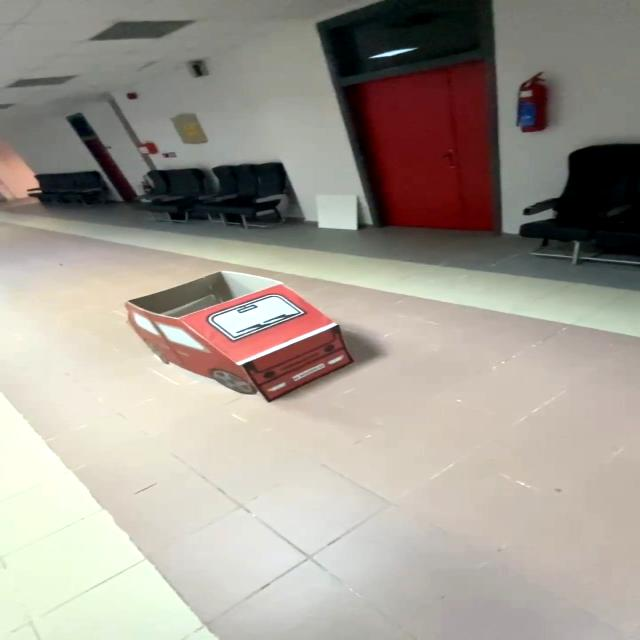red_car: (103, 262, 416, 422)
